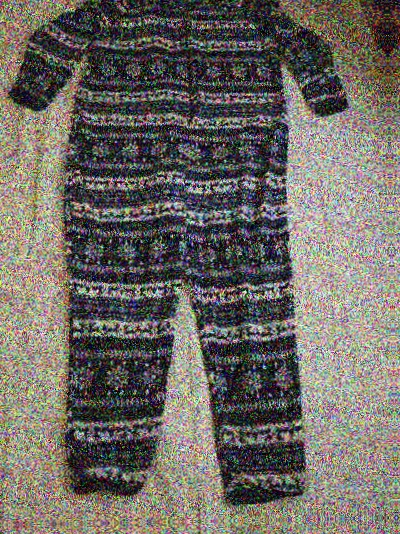Body: (0, 0, 373, 508)
